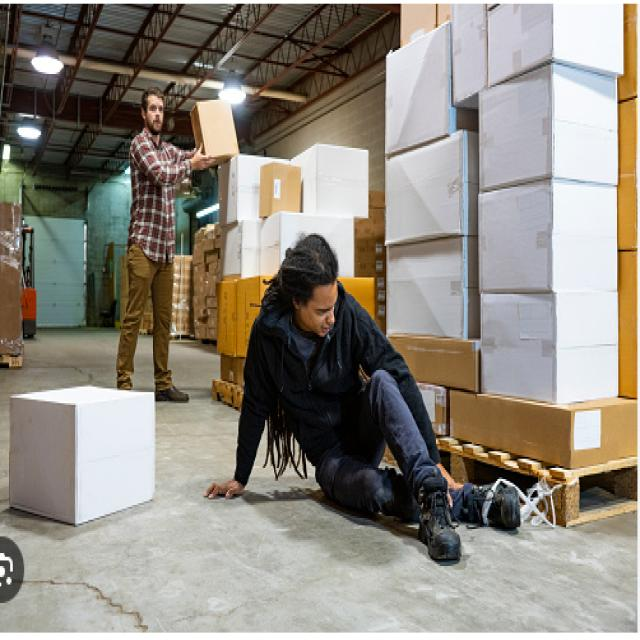shoes: (413, 471, 522, 567)
